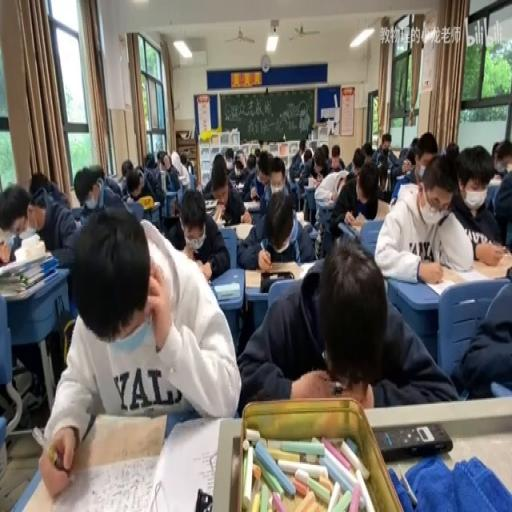calculator: (10, 411, 170, 511), (154, 415, 224, 512), (244, 263, 306, 289), (294, 257, 320, 276), (214, 282, 240, 300), (234, 222, 252, 242), (336, 222, 355, 240), (376, 198, 390, 218), (346, 214, 366, 228), (19, 226, 38, 240), (211, 204, 224, 224), (243, 199, 261, 212), (204, 196, 217, 209), (488, 175, 502, 186), (306, 176, 318, 188), (176, 174, 189, 184), (160, 170, 166, 190), (322, 198, 336, 206), (234, 182, 244, 192), (394, 171, 406, 179), (74, 218, 80, 226), (294, 176, 300, 181)
paper: (238, 238, 454, 410), (2, 174, 80, 396), (374, 148, 478, 282), (451, 268, 512, 398), (236, 185, 314, 269), (166, 185, 230, 279), (323, 159, 381, 255), (72, 161, 127, 229), (486, 141, 512, 247), (126, 160, 165, 214), (300, 147, 325, 219), (202, 152, 238, 199), (0, 182, 30, 233), (233, 151, 259, 199), (392, 145, 418, 193), (372, 131, 397, 168), (288, 142, 306, 182), (269, 156, 286, 194), (327, 142, 346, 171), (29, 170, 48, 196), (376, 161, 390, 193), (165, 161, 181, 189), (351, 148, 365, 176), (8, 232, 22, 259), (178, 151, 192, 176), (120, 159, 134, 179), (157, 150, 169, 170), (445, 141, 458, 158), (320, 142, 330, 164), (144, 152, 155, 172), (408, 138, 418, 159), (362, 141, 372, 161), (314, 158, 324, 175), (493, 154, 502, 172), (302, 148, 312, 163), (491, 141, 500, 155), (135, 163, 144, 175), (253, 148, 260, 162), (248, 162, 256, 174)
person: (374, 422, 452, 461), (194, 488, 213, 509)
